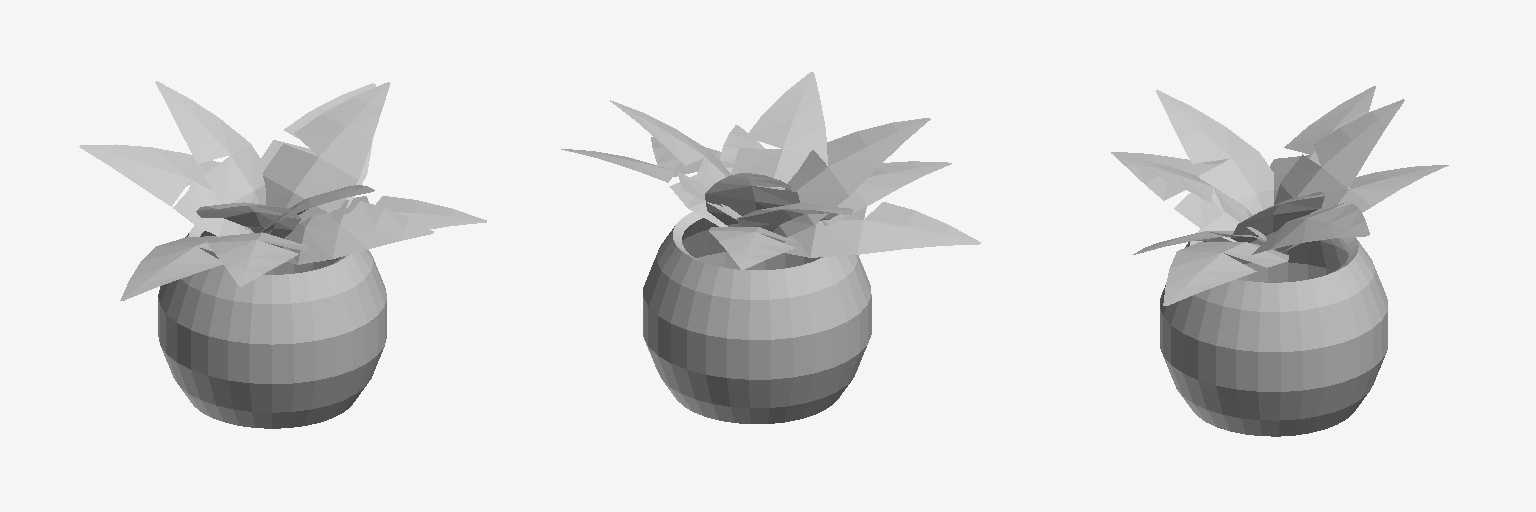
The model's file is Bar_Back_Planter_Small.obj.
3 renders of one model, left to right at view 1: azimuth 30°, elevation 25°; view 2: azimuth 150°, elevation 25°; view 3: azimuth 270°, elevation 25°, orthographic.
Parts seen in each view (by area): view 1: Pot_small_wide_Cylinder; view 2: Pot_small_wide_Cylinder; view 3: Pot_small_wide_Cylinder.
Part boxes in pixels (bbox=[...]): Pot_small_wide_Cylinder: bbox=[79, 81, 486, 428]; Pot_small_wide_Cylinder: bbox=[561, 72, 980, 423]; Pot_small_wide_Cylinder: bbox=[1111, 86, 1448, 436].
Size of the model in its own units: 60.05 by 45.5 by 50.53.